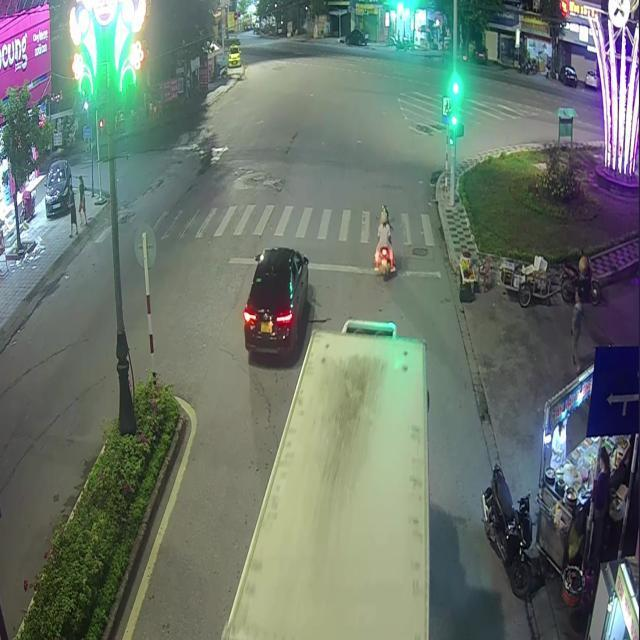car: (222, 331, 428, 638), (240, 246, 309, 364)
green_light: (449, 78, 459, 131)
motobike: (373, 204, 395, 283)
stop_line: (228, 256, 440, 277)
